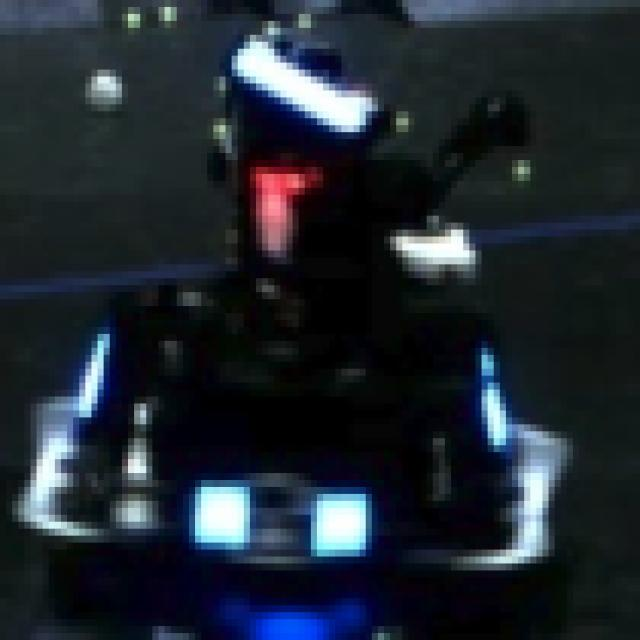Bs: (201, 452, 366, 584)
